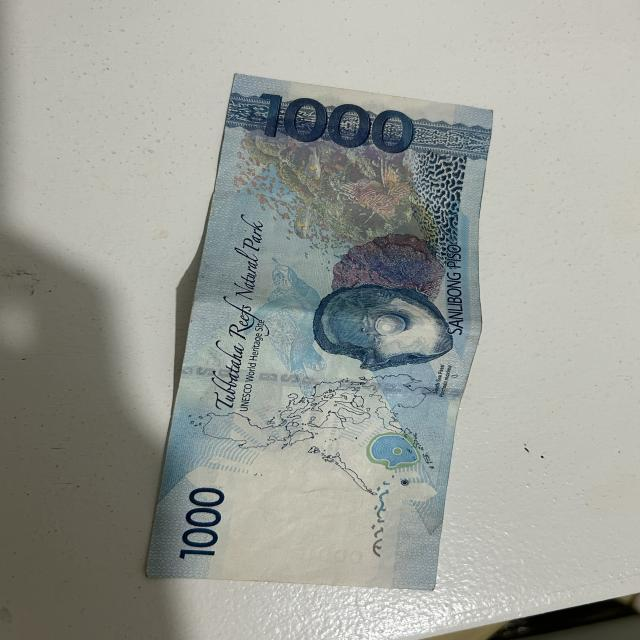1000_pearl: (324, 287, 446, 361)
1000_pearl_watermark: (369, 432, 419, 467)
value_watermark: (288, 538, 368, 573)
watermark: (213, 459, 398, 584)
